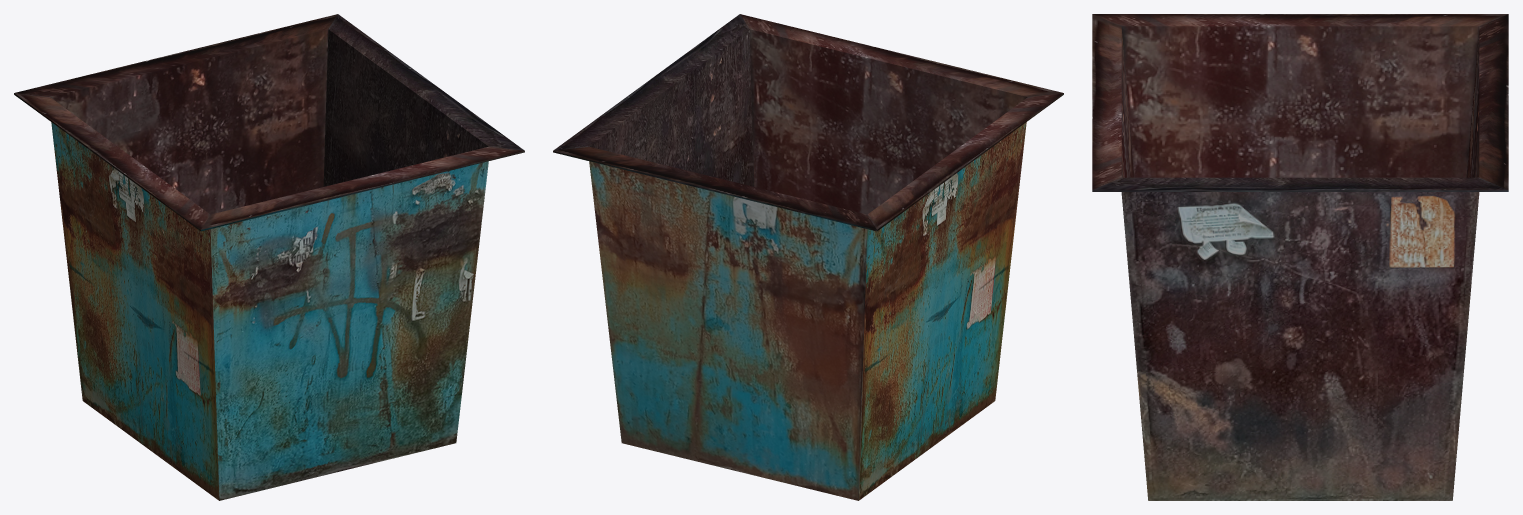
Rendered from dumpster_russian_blue.glb.
3 renders of one model, left to right at view 1: azimuth 30°, elevation 25°; view 2: azimuth 150°, elevation 25°; view 3: azimuth 270°, elevation 25°, orthographic. The views are drawn at different scales.
Parts seen in each view (by area): view 1: DumpsterRussian01; view 2: DumpsterRussian01; view 3: DumpsterRussian01.
Part boxes in pixels (x1=…): DumpsterRussian01: x1=14, y1=14, x2=524, y2=500; DumpsterRussian01: x1=553, y1=14, x2=1063, y2=500; DumpsterRussian01: x1=1092, y1=14, x2=1508, y2=500.
Bounding box in the file's own units: 1.35 × 1.19 × 1.35.
1 material, 1 textured.
